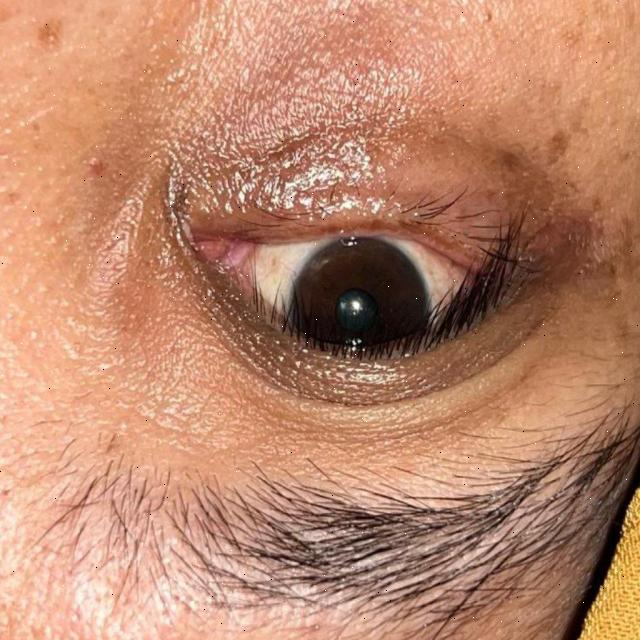Normal: (285, 228, 431, 396)
